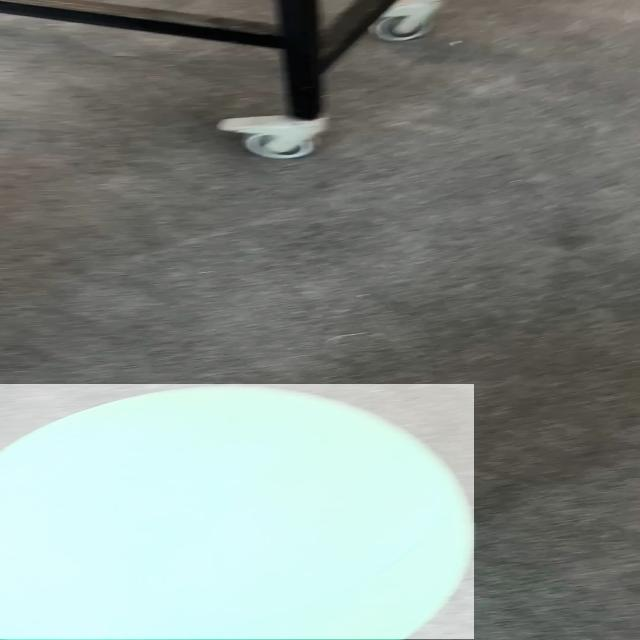Algae: (1, 384, 474, 639)
